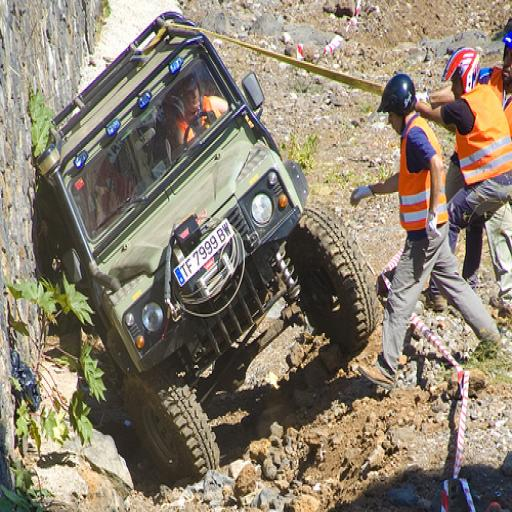person: (350, 71, 506, 392), (412, 44, 512, 314)
vehicle: (33, 9, 381, 482)
